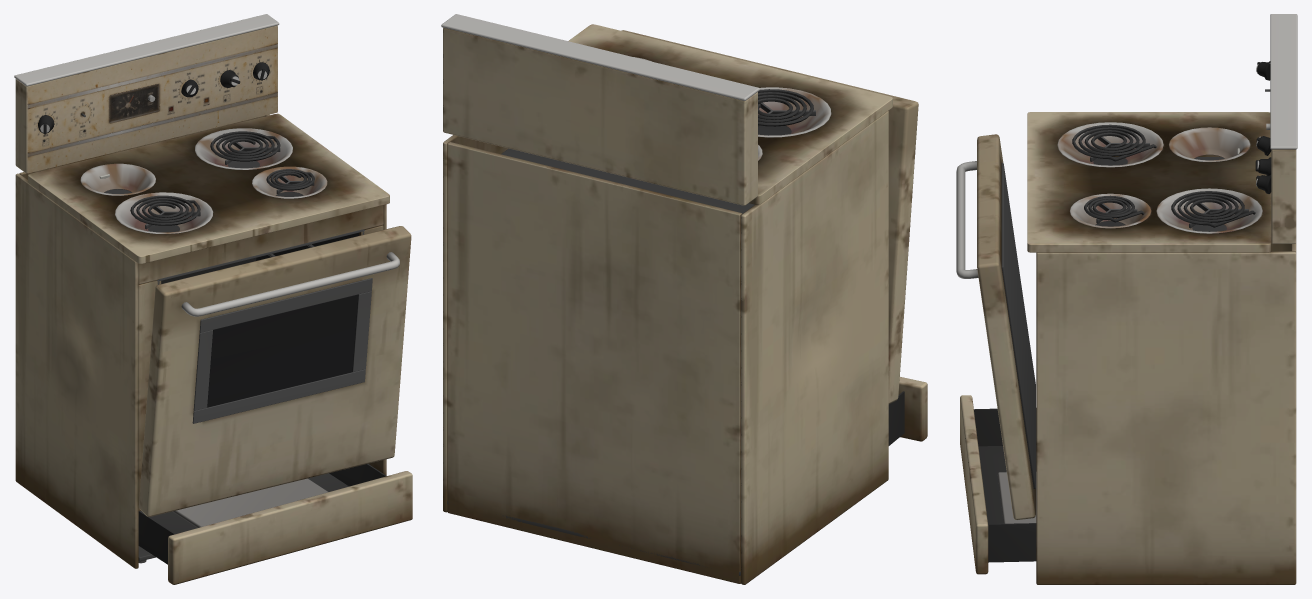
Rendered from stove_old.glb.
The picture shows the model from 3 angles, left to right: view 1: azimuth 30°, elevation 25°; view 2: azimuth 150°, elevation 25°; view 3: azimuth 270°, elevation 25°; orthographic projection. The views are drawn at different scales.
Visible parts, largest first — view 1: stove_old; view 2: stove_old; view 3: stove_old.
Part boxes in pixels (x1,y1,x2,y2): stove_old: (14,14,412,584); stove_old: (441,14,927,584); stove_old: (956,14,1297,584).
Bounding box in the file's own units: 0.7661 × 1.17 × 0.8267.
Materials: 10 (2 with a texture image).
